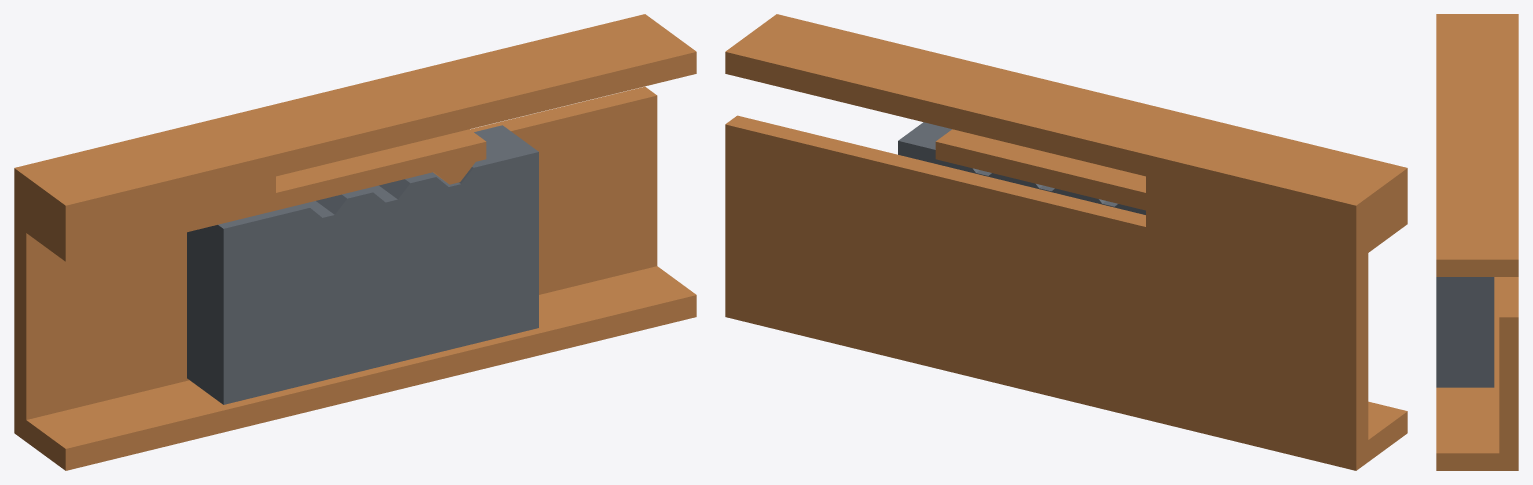
3 views of the same model, side by side, from view 1: azimuth 30°, elevation 25°; view 2: azimuth 150°, elevation 25°; view 3: azimuth 270°, elevation 25° (orthographic). The views are drawn at different scales.
Parts seen in each view (by area): view 1: base, curseur; view 2: base, curseur; view 3: base, curseur.
Part boxes in pixels (x1,y1,x2,y2): base: [14, 14, 696, 470]; curseur: [187, 125, 538, 404]; base: [725, 14, 1407, 470]; curseur: [898, 122, 1145, 214]; base: [1436, 14, 1518, 470]; curseur: [1436, 277, 1494, 387].
Bounding box in the file's own units: 60 × 24.1 × 8.5.
